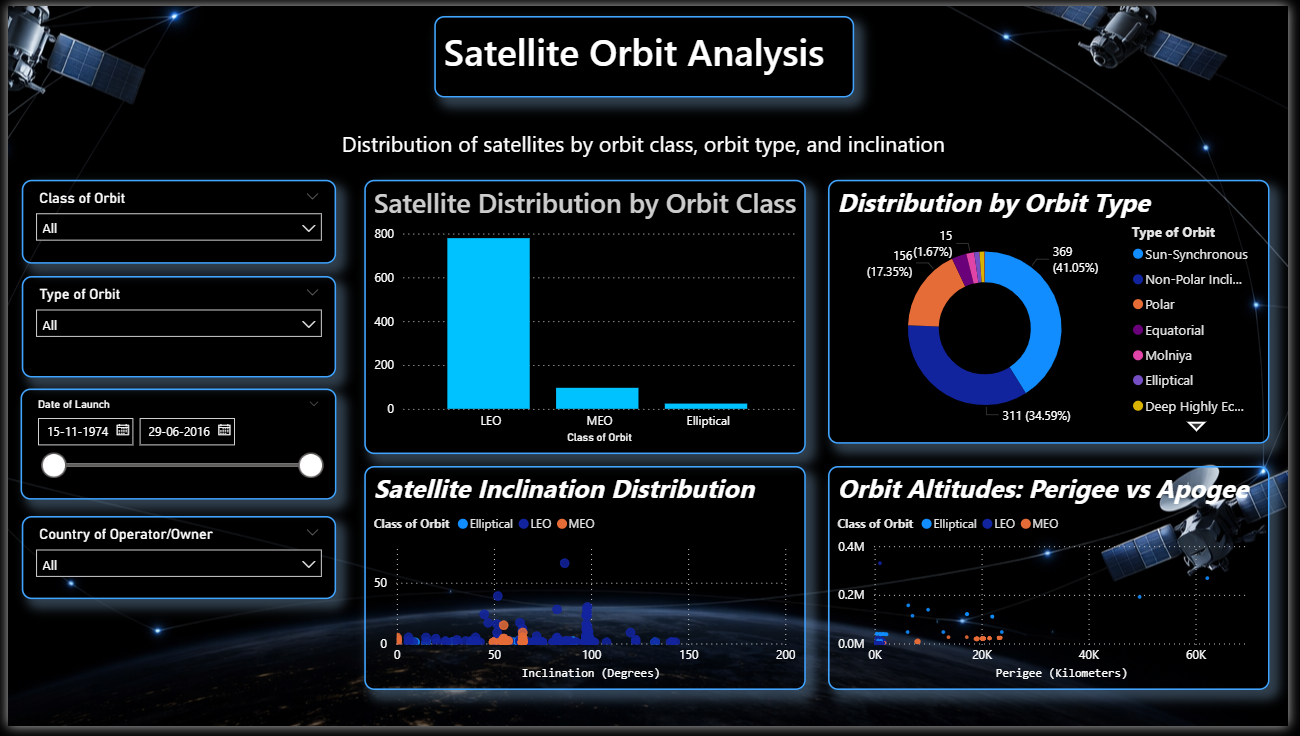

What the dashboard file says about the page in this screenshot:
{"tool":"powerbi","page":{"name":"Orbit Analysis","canvas":[1280,720],"ordinal":2},"visuals":[{"type":"textbox","box":[425.7,10,420,81.4],"z":0},{"type":"textbox","box":[328.6,117.1,622.9,57.1],"z":1000},{"type":"clusteredColumnChart","title":"Satellite Distribution by Orbit Class","fields":{"Category":["maindata.Class of Orbit"],"Y":["CountNonNull(maindata.Official Name of Satellite)"]},"box":[356.3,174.3,441.4,274.3],"z":2000},{"type":"donutChart","title":"Distribution by Orbit Type","fields":{"Category":["maindata.Type of Orbit"],"Y":["CountNonNull(maindata.Official Name of Satellite)"]},"box":[820,174.3,441.4,264.3],"z":3000},{"type":"scatterChart","title":"Satellite Inclination Distribution","fields":{"Series":["maindata.Class of Orbit"],"X":["maindata.Inclination (Degrees)"],"Y":["CountNonNull(maindata.Official Name of Satellite)"]},"box":[356.3,460,441.4,224.3],"z":4000},{"type":"scatterChart","title":"Orbit Altitudes: Perigee vs Apogee","fields":{"X":["maindata.Perigee (Kilometers)"],"Y":["maindata.Apogee (Kilometers)"],"Series":["maindata.Class of Orbit"],"Size":["CountNonNull(maindata.Official Name of Satellite)"]},"box":[820,460,441.4,224.3],"z":5000},{"type":"slicer","fields":{"Values":["maindata.Class of Orbit"]},"box":[14.3,174.3,314.3,84.3],"z":6000},{"type":"slicer","fields":{"Values":["maindata.Type of Orbit"]},"box":[14.3,270,314.3,101.4],"z":7000},{"type":"slicer","fields":{"Values":["maindata.Date of Launch"]},"box":[12.9,382.9,315.7,111.4],"z":8000},{"type":"slicer","fields":{"Values":["maindata.Country of Operator/Owner"]},"box":[14.3,510,314.3,82.9],"z":9000}]}

Visuals, with their boxes in screenshot pixels (x1, y1, x2, y2), scaled from the page's 1280x720 canvas onto the 1300x736 screenshot:
textbox: select_region(432, 10, 859, 93)
textbox: select_region(334, 120, 966, 178)
"Satellite Distribution by Orbit Class" clusteredColumnChart: select_region(362, 178, 810, 459)
"Distribution by Orbit Type" donutChart: select_region(833, 178, 1281, 448)
"Satellite Inclination Distribution" scatterChart: select_region(362, 470, 810, 700)
"Orbit Altitudes: Perigee vs Apogee" scatterChart: select_region(833, 470, 1281, 700)
slicer - maindata.Class of Orbit: select_region(15, 178, 334, 264)
slicer - maindata.Type of Orbit: select_region(15, 276, 334, 380)
slicer - maindata.Date of Launch: select_region(13, 391, 334, 505)
slicer - maindata.Country of Operator/Owner: select_region(15, 521, 334, 606)
